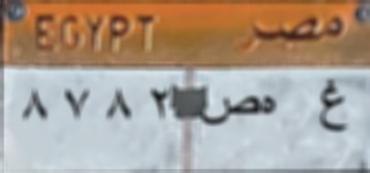2: (146, 83, 172, 124)
7: (63, 82, 95, 127)
8: (17, 86, 53, 124), (103, 85, 134, 126)
ghayn: (318, 76, 348, 138)
haa: (260, 89, 279, 116)
saad: (196, 86, 260, 131)
